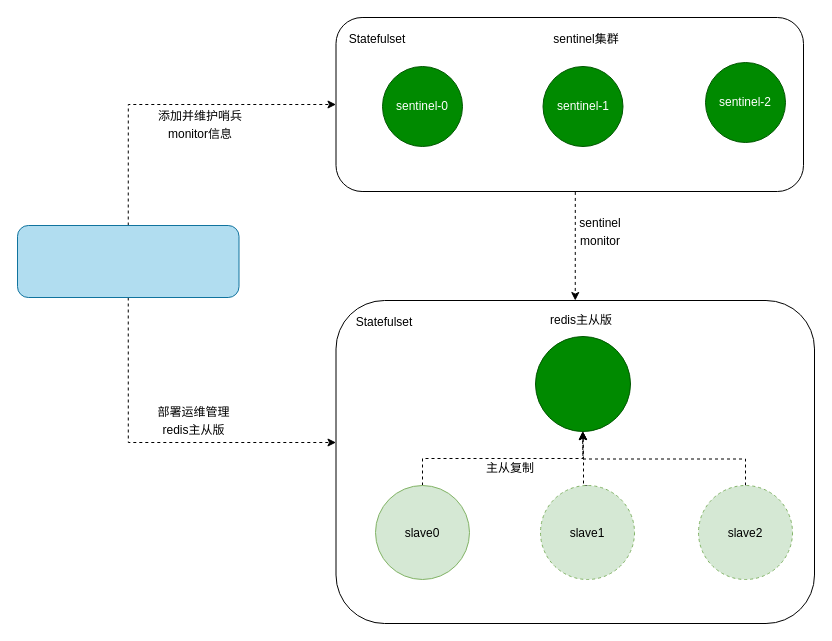
Some shapes in this 832 by 641 pixel diagram are drawn without their labels. The shapes that lost their labels are listed below. From the top down, each one's centre as x and y in pixels, then its label:
At (x=127, y=261): "redis-operator".
At (x=582, y=384): "master".
